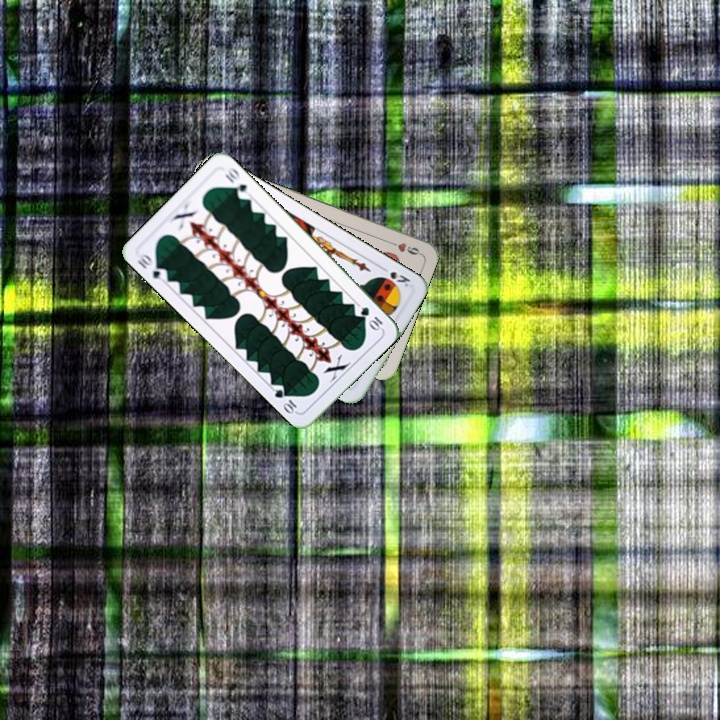G10: (133, 249, 170, 284), (356, 303, 385, 333)
H9: (384, 237, 423, 258)
SK: (376, 262, 413, 289)
